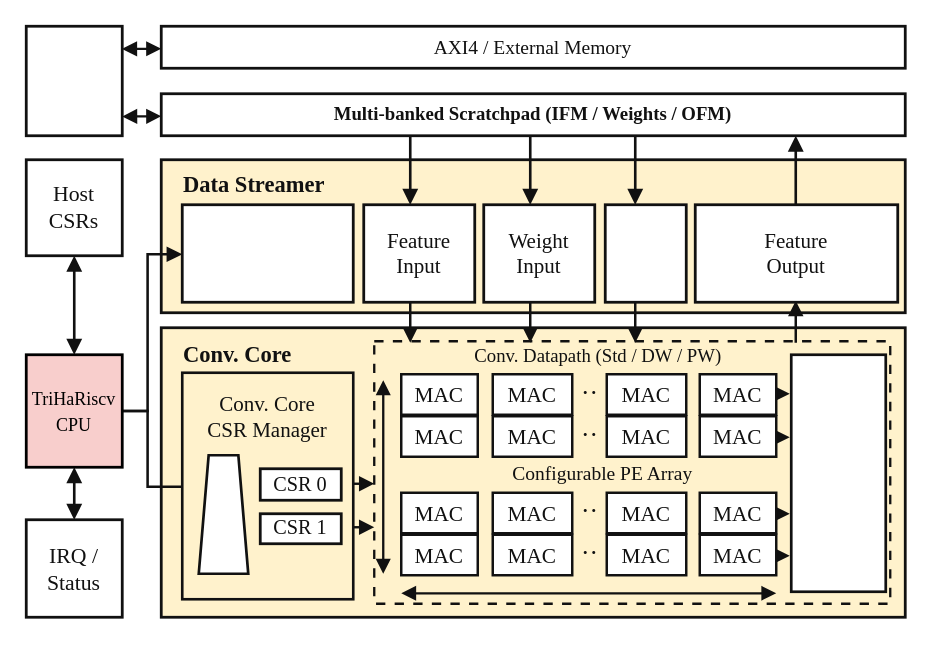
This 933x645 diagram has some shape labels left out. Each missing label, with the centre of its shape:
"Bias / Scale Input" goes at point (645, 253).
"Bias Act. Requant." goes at point (837, 472).
"DMA" goes at point (73, 80).
"MUX" goes at point (223, 513).
"Streamer CSR Manager" goes at point (267, 253).
